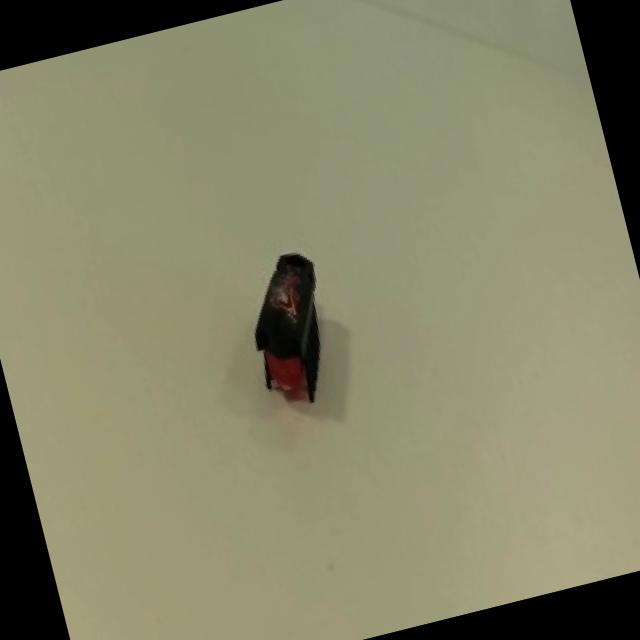2_NanoBug_Negro: (212, 232, 376, 414)
